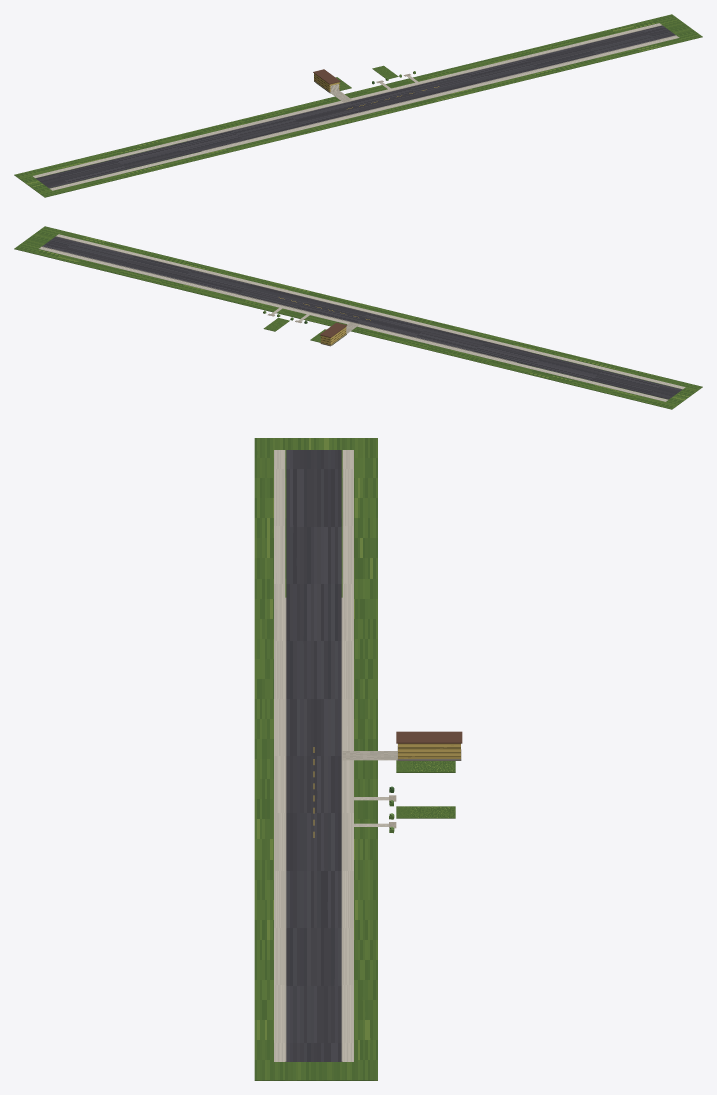
File: structure.glb
The picture shows the model from 3 angles, top to bottom: view 1: azimuth 30°, elevation 25°; view 2: azimuth 150°, elevation 25°; view 3: azimuth 270°, elevation 25°; orthographic projection. The views are drawn at different scales.
Parts seen in each view (by area): view 1: Box3, Box6, Box18, Box17, Box15, Box16; view 2: Box6, Box3, Box17, Box18, Box16, Box15; view 3: Box6, Box3, Box18, Box17, Box19.
Boxes of the visible parts, box(x1,y1,x2,y2) form: Box3: box(14, 14, 702, 197); Box6: box(36, 25, 675, 188); Box18: box(50, 35, 679, 190); Box17: box(32, 23, 661, 178); Box15: box(187, 25, 662, 141); Box16: box(201, 35, 676, 151); Box6: box(42, 236, 682, 399); Box3: box(14, 226, 702, 409); Box17: box(39, 247, 668, 401); Box18: box(56, 234, 685, 389); Box16: box(55, 236, 530, 352); Box15: box(41, 246, 516, 362); Box6: box(286, 450, 341, 1061); Box3: box(254, 438, 377, 1080); Box18: box(274, 450, 285, 1061); Box17: box(342, 450, 353, 1061); Box19: box(398, 743, 460, 758).
Size of the model in its own units: 212 by 2.98 by 28.99.
Materials: 17 (7 with a texture image).
